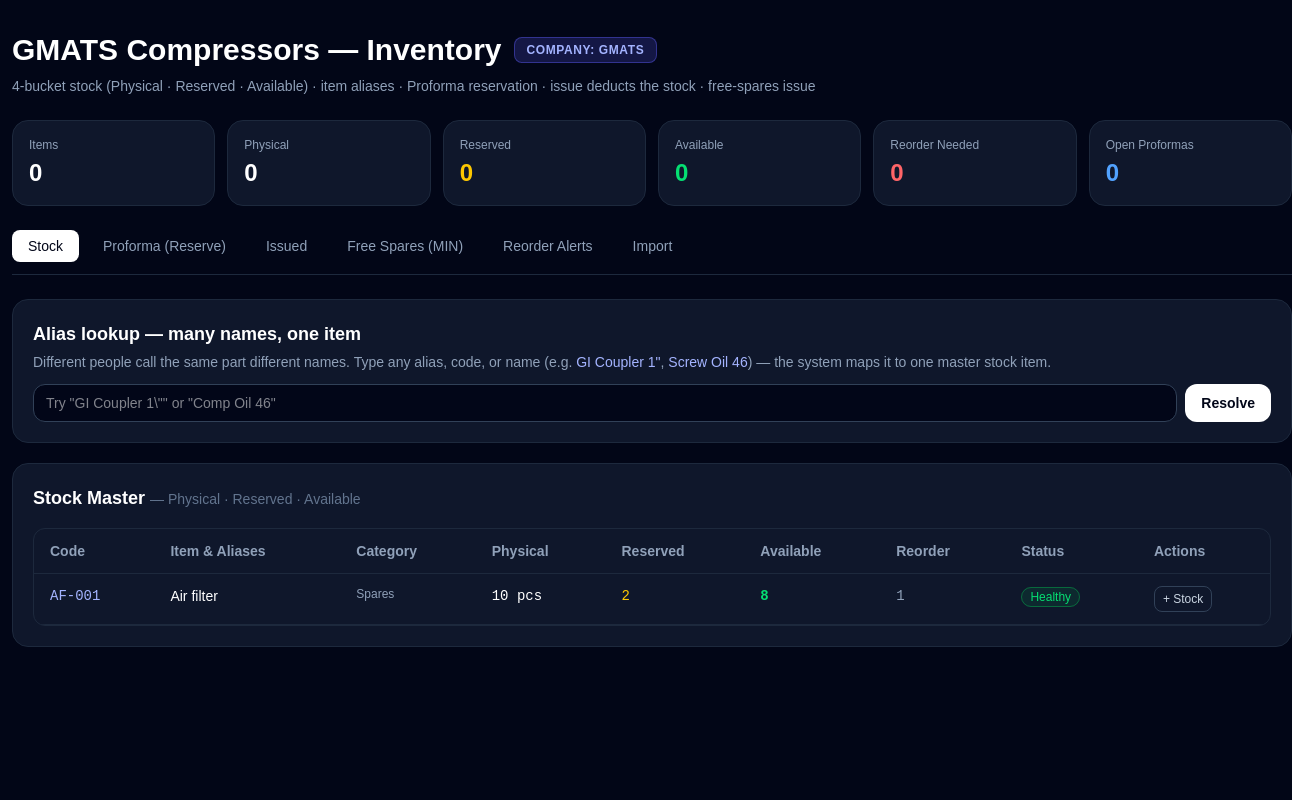
Test: GMATS inventory offers writes by role › offers a Supervisor those writes, and still not the Admin corrections
Expected: the text "Air filter" is shown, [170,588,218,604]
Expected: the button "+ Stock" is shown, [1154,586,1212,612]
Step 1. Click the button "Proforma (Reserve)" → click(164, 246), box [87,230,242,262]
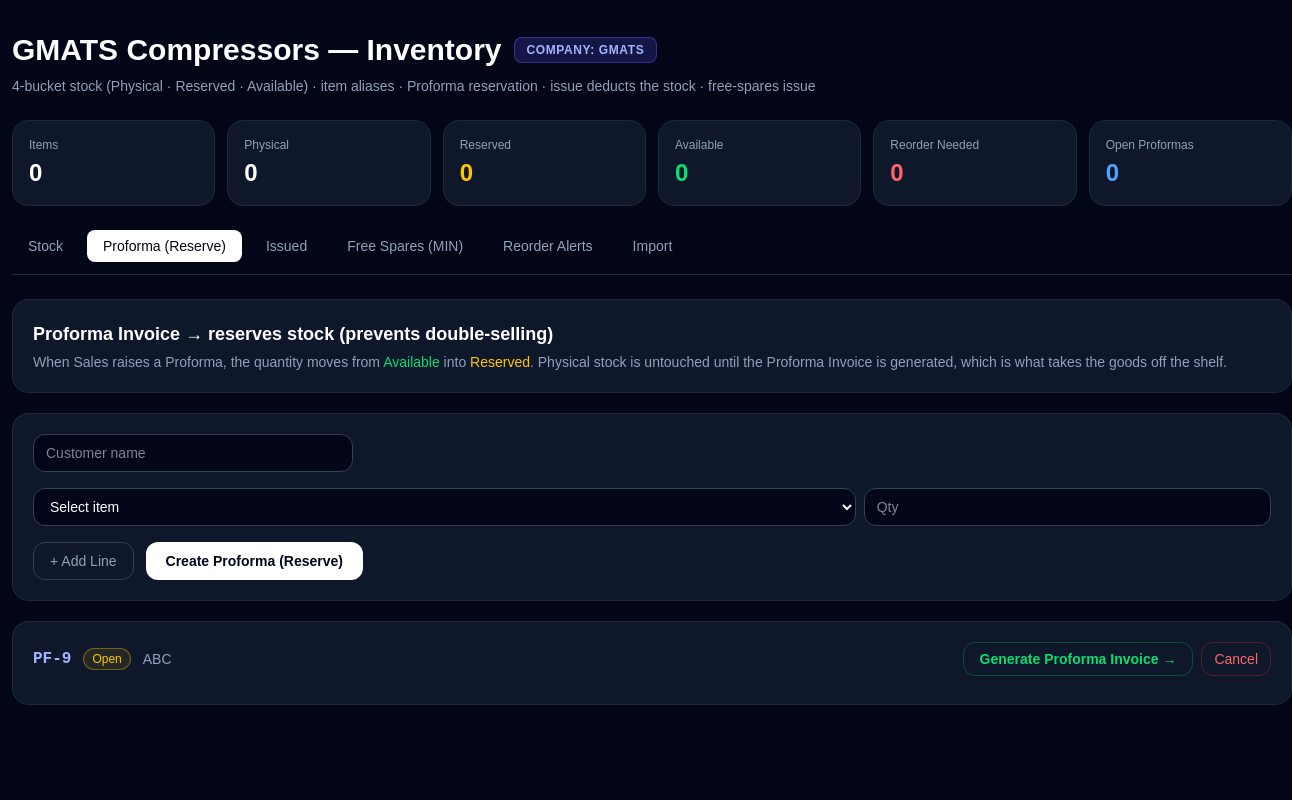
Expected: the button "Create Proforma (Reserve)" is shown, [146,542,363,580]
Expected: the text "PF-9" is shown, [33,647,71,671]
Expected: the button "Generate Proforma Invoice →" is shown, [963,642,1193,676]
Step 2. Click the button "Free Spares (MIN)" → click(405, 246), box [331,230,479,262]
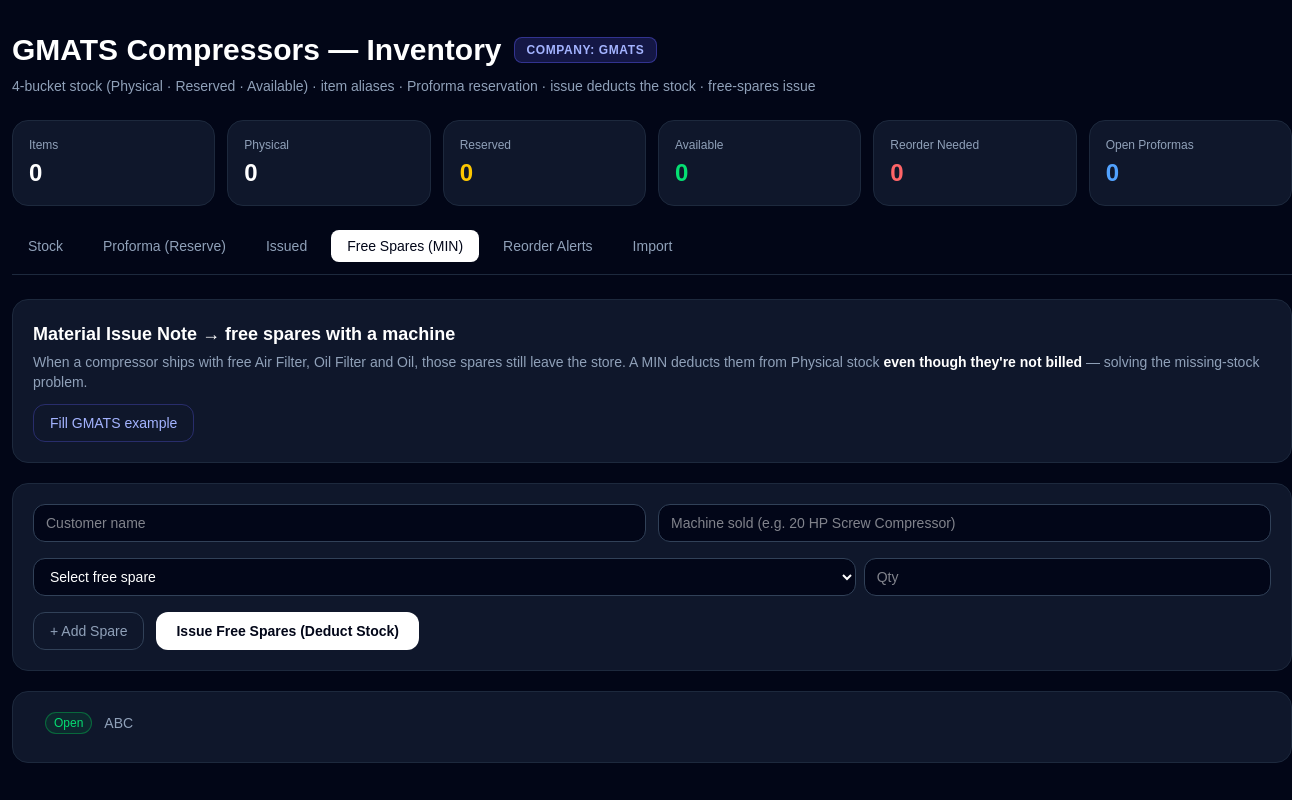
Expected: the button "Issue Free Spares (Deduct Stock)" is shown, [156,612,419,650]
